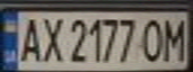1: (84, 16, 106, 63)
2: (66, 15, 87, 63)
7: (118, 16, 142, 63), (100, 16, 121, 63)
A: (15, 14, 45, 63)
M: (160, 15, 190, 62)
O: (139, 16, 169, 63)
X: (36, 14, 66, 63)
